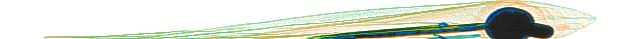seal: (485, 6, 554, 37)
